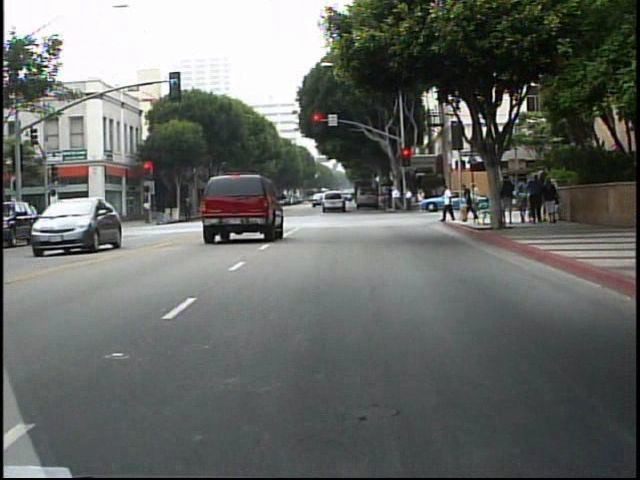person: (499, 172, 517, 228), (462, 181, 480, 223), (440, 183, 455, 225), (468, 178, 481, 223), (183, 193, 195, 226), (142, 197, 151, 225)
